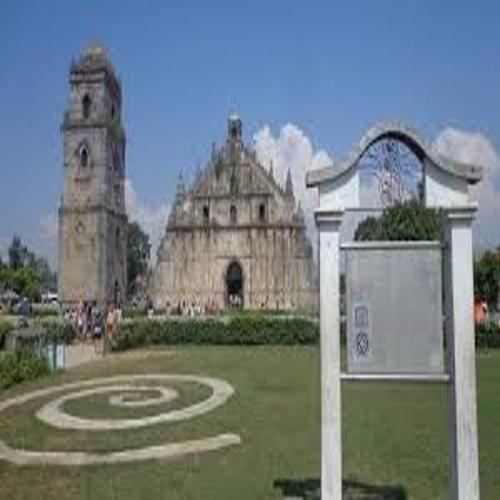Paoay Church: (50, 39, 319, 342)
